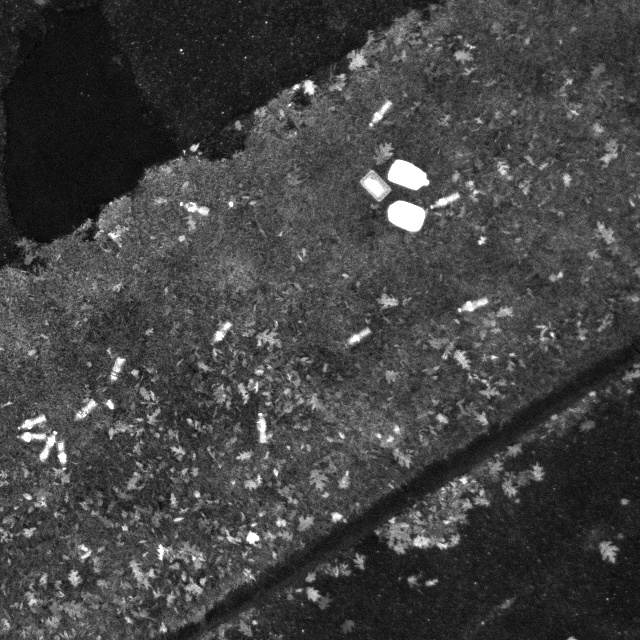bottle: (365, 96, 396, 135), (33, 428, 61, 466), (205, 316, 236, 350), (425, 188, 464, 215), (452, 293, 491, 318), (105, 351, 131, 388), (71, 395, 100, 426), (343, 325, 374, 352), (175, 197, 211, 220), (252, 409, 271, 447), (53, 438, 70, 475)
can: (387, 156, 431, 194), (386, 199, 428, 237)
container: (358, 165, 392, 204)
